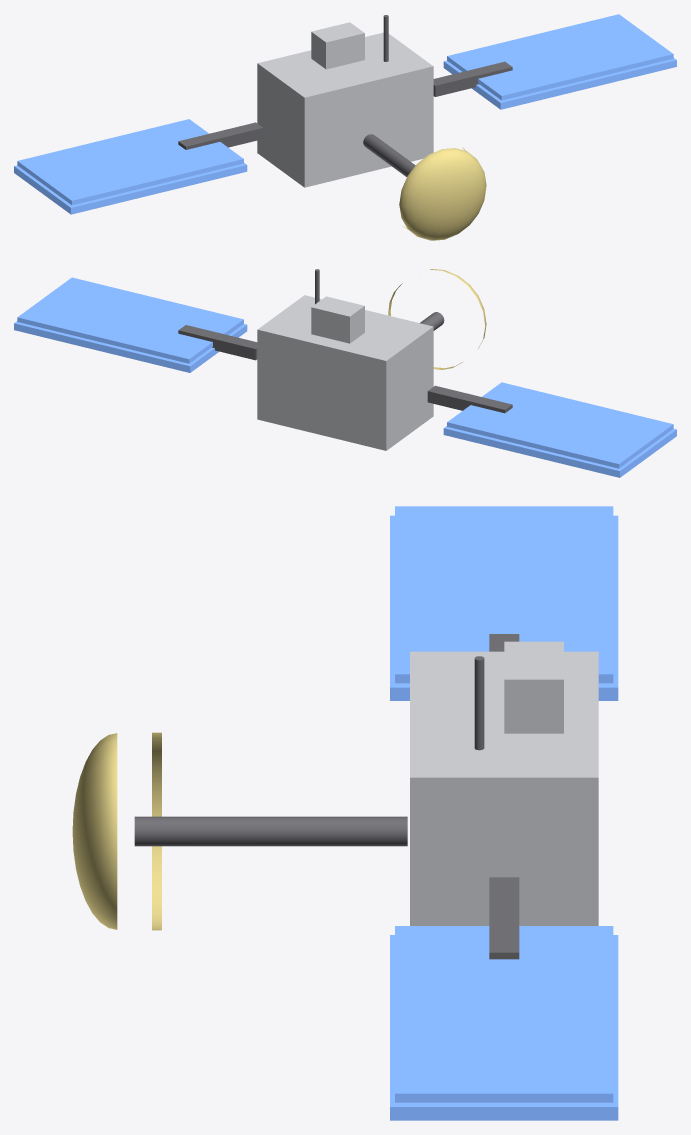
Rendered from satellite.gltf.
3 renders of one model, top to bottom at view 1: azimuth 30°, elevation 25°; view 2: azimuth 150°, elevation 25°; view 3: azimuth 270°, elevation 25°, orthographic. The views are drawn at different scales.
Parts seen in each view (by area): view 1: Satellite; view 2: Satellite; view 3: Satellite.
Boxes of the visible parts, x1,y1,x2,y2 form: Satellite: (14, 14, 676, 240); Satellite: (14, 269, 676, 477); Satellite: (72, 506, 618, 1120).
Bounding box in the file's own units: 2.82 × 0.66 × 1.1.
